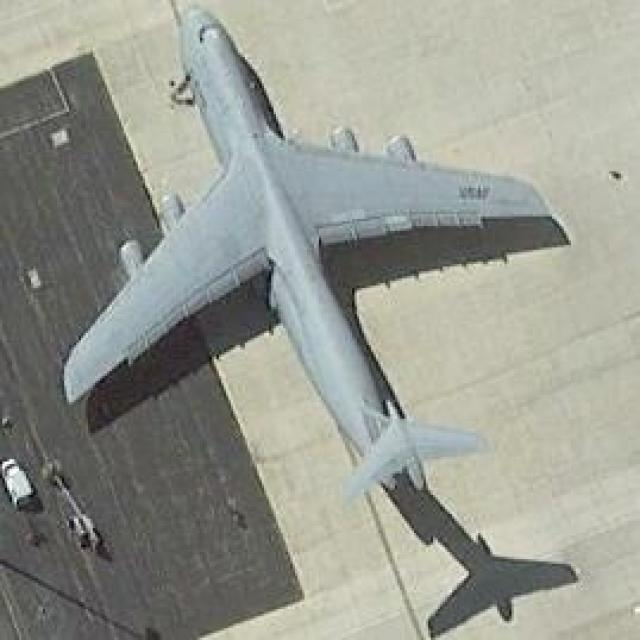C-5_TopDown: (62, 2, 588, 624)
